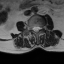CCS_normal: (35, 23, 38, 34)
LFS_normal: (40, 24, 42, 31)
LLS_normal: (38, 24, 40, 33)
RFS_normal: (30, 24, 32, 32)
RLS_normal: (32, 24, 35, 33)
